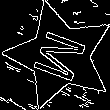M_E: (27, 26, 92, 86)
